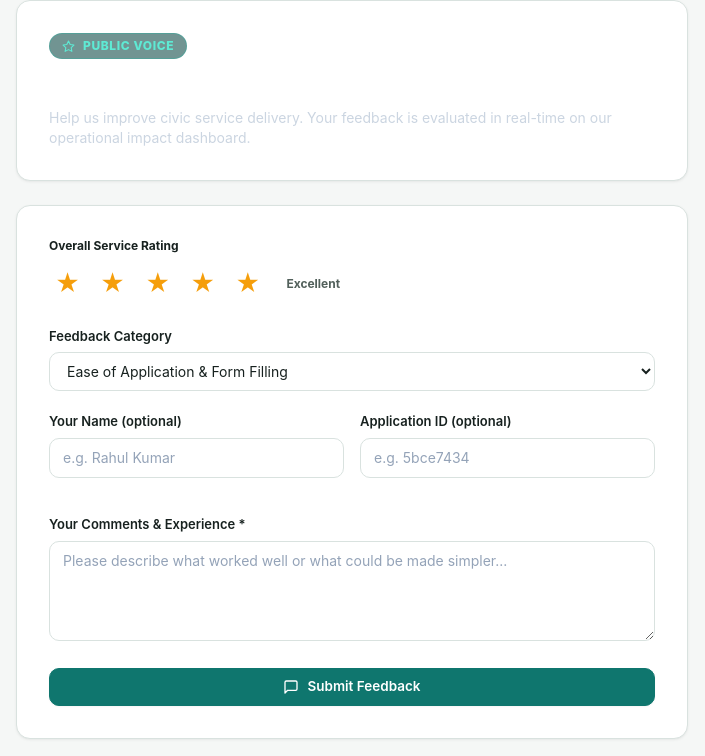
Scenario: Feedback › submits with optional fields correctly nulled when blank
Type "Great experience!" into the text box labelled "Your Comments & Experience *" at {"x": 352, "y": 591}, box 49,541 -> 655,641
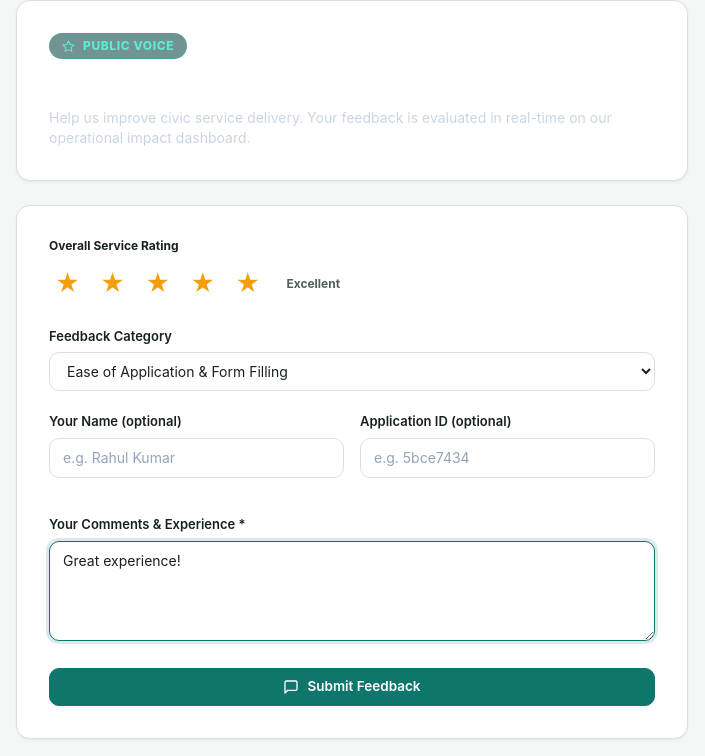
Click the button "Submit Feedback" at {"x": 352, "y": 687}, box 49,668 -> 655,706
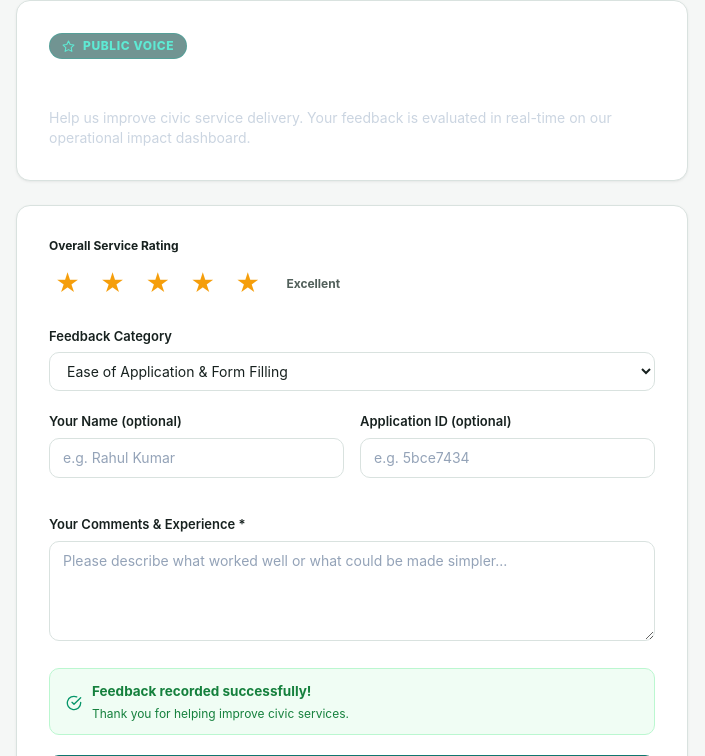
Expected: the text "Feedback recorded successfully!" is shown, 92,683 -> 311,699
